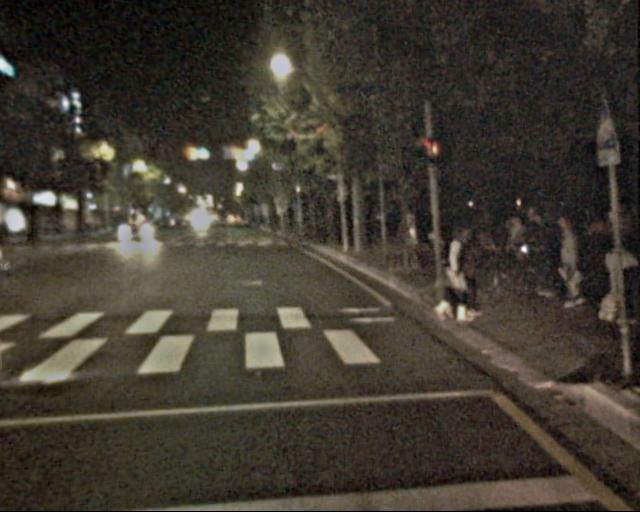person: (506, 209, 561, 295), (439, 224, 480, 324), (596, 231, 637, 330), (553, 215, 592, 311)
